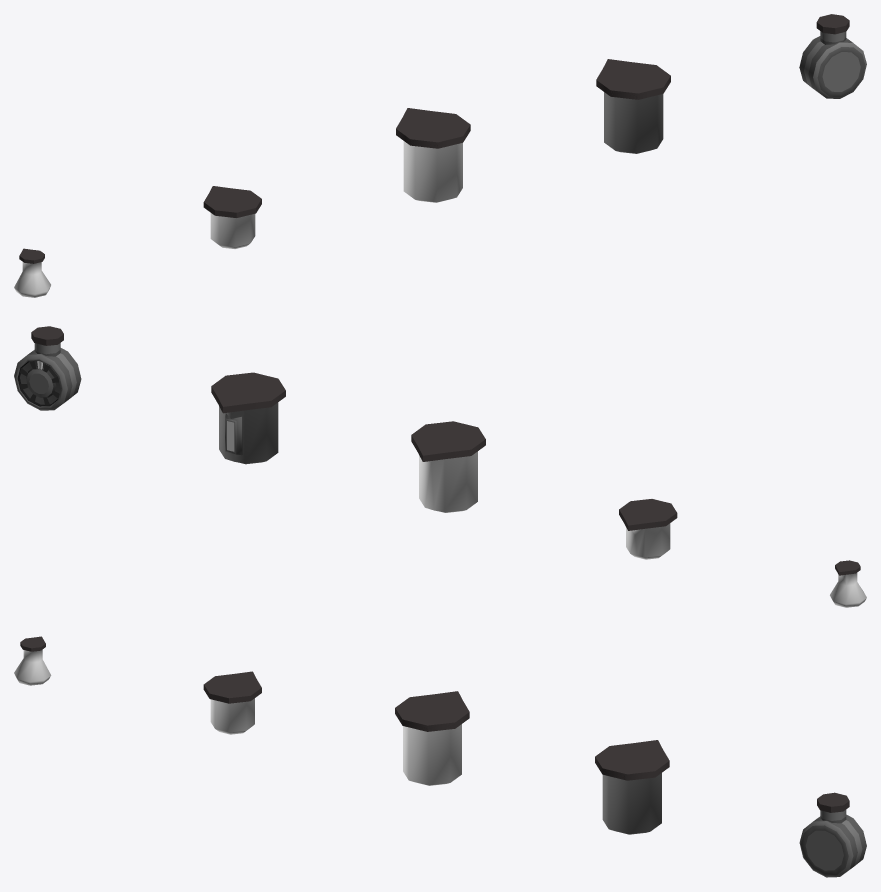
The model's file is Beakers.fbx.
The picture shows the model from 3 angles, top to bottom: view 1: azimuth 30°, elevation 25°; view 2: azimuth 150°, elevation 25°; view 3: azimuth 330°, elevation 25°; orthographic projection.
Visible parts, largest first — view 1: BeakerCryogenic, BeakerLarge, BeakerBluespace, BeakerLargeLid, BeakerBluespaceLid, BeakerLid, Beaker, BeakerSmall, BeakerCryogenicLid; view 2: BeakerCryogenic, BeakerBluespace, BeakerLarge, BeakerLargeLid, BeakerBluespaceLid, BeakerLid, Beaker, BeakerSmall; view 3: BeakerCryogenic, BeakerBluespace, BeakerLarge, BeakerBluespaceLid, BeakerLargeLid, BeakerLid, Beaker, BeakerSmall, BeakerCryogenicLid.
Boxes of the visible parts, x1=… form: BeakerCryogenic: x1=799, y1=31, x2=866, y2=98; BeakerLarge: x1=403, y1=141, x2=462, y2=202; BeakerBluespace: x1=604, y1=92, x2=663, y2=153; BeakerLargeLid: x1=396, y1=108, x2=470, y2=148; BeakerBluespaceLid: x1=596, y1=59, x2=670, y2=99; BeakerLid: x1=203, y1=186, x2=261, y2=217; Beaker: x1=210, y1=213, x2=255, y2=248; BeakerSmall: x1=14, y1=262, x2=50, y2=297; BeakerCryogenicLid: x1=816, y1=14, x2=849, y2=34; BeakerCryogenic: x1=14, y1=343, x2=81, y2=410; BeakerBluespace: x1=219, y1=402, x2=278, y2=464; BeakerLarge: x1=419, y1=451, x2=477, y2=512; BeakerLargeLid: x1=411, y1=421, x2=485, y2=461; BeakerBluespaceLid: x1=211, y1=372, x2=285, y2=413; BeakerLid: x1=619, y1=499, x2=677, y2=530; Beaker: x1=626, y1=523, x2=670, y2=559; BeakerSmall: x1=830, y1=573, x2=866, y2=607; BeakerCryogenic: x1=799, y1=810, x2=866, y2=877; BeakerBluespace: x1=602, y1=773, x2=661, y2=834; BeakerLarge: x1=403, y1=724, x2=461, y2=785; BeakerBluespaceLid: x1=595, y1=740, x2=669, y2=780; BeakerLargeLid: x1=395, y1=691, x2=469, y2=731; BeakerLid: x1=203, y1=671, x2=261, y2=703; Beaker: x1=210, y1=698, x2=254, y2=734; BeakerSmall: x1=14, y1=650, x2=51, y2=685; BeakerCryogenicLid: x1=817, y1=792, x2=849, y2=812.
Bounding box in the file's own units: 4.21 × 0.3525 × 0.3724.
